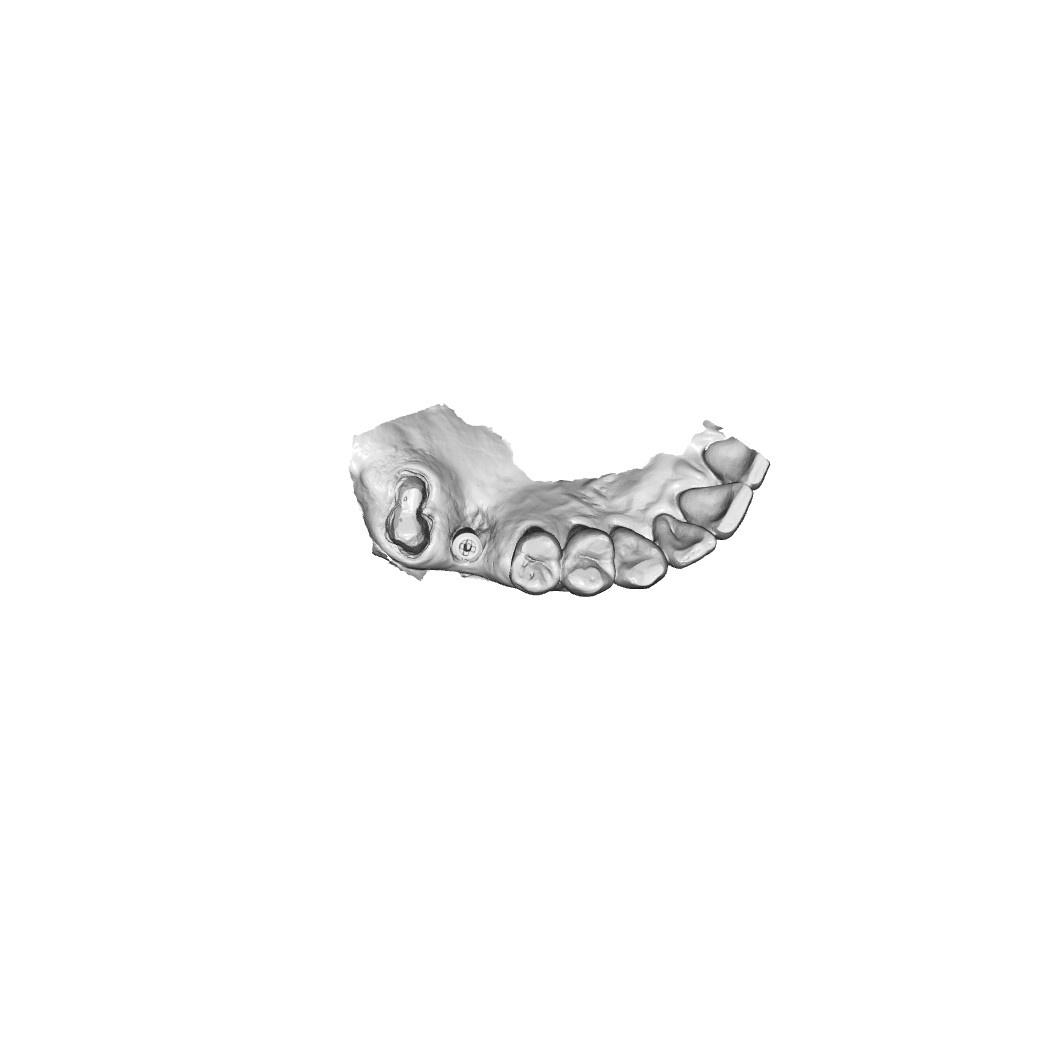canine: (610, 525, 668, 593)
crown: (382, 471, 435, 563)
implant_plus: (449, 527, 484, 567)
incisor: (674, 483, 755, 540), (651, 512, 714, 570)
premolar: (558, 524, 617, 600), (506, 526, 560, 597)
